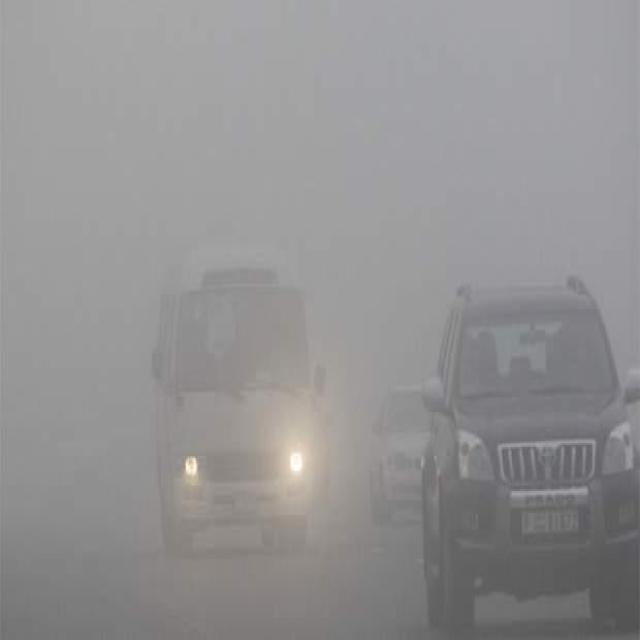Bus: (153, 243, 317, 556)
Car: (422, 284, 640, 638), (369, 381, 428, 514)
